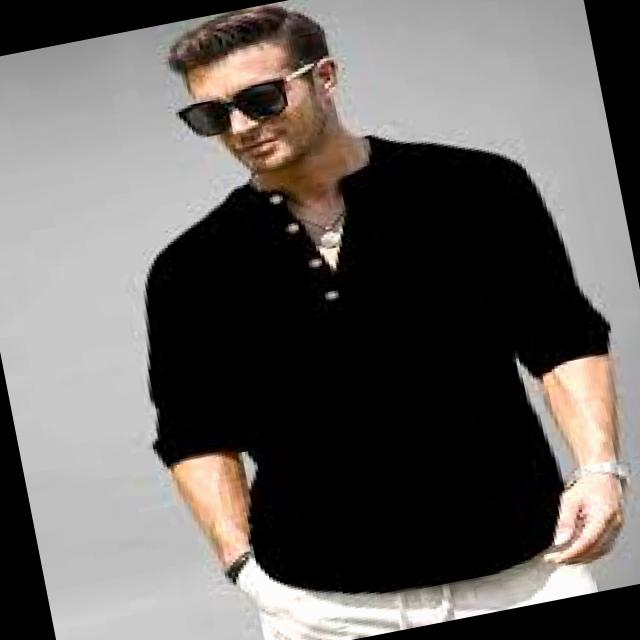face: (221, 58, 338, 173)
lower-wear: (240, 550, 598, 639)
top-wear: (144, 135, 610, 593)
